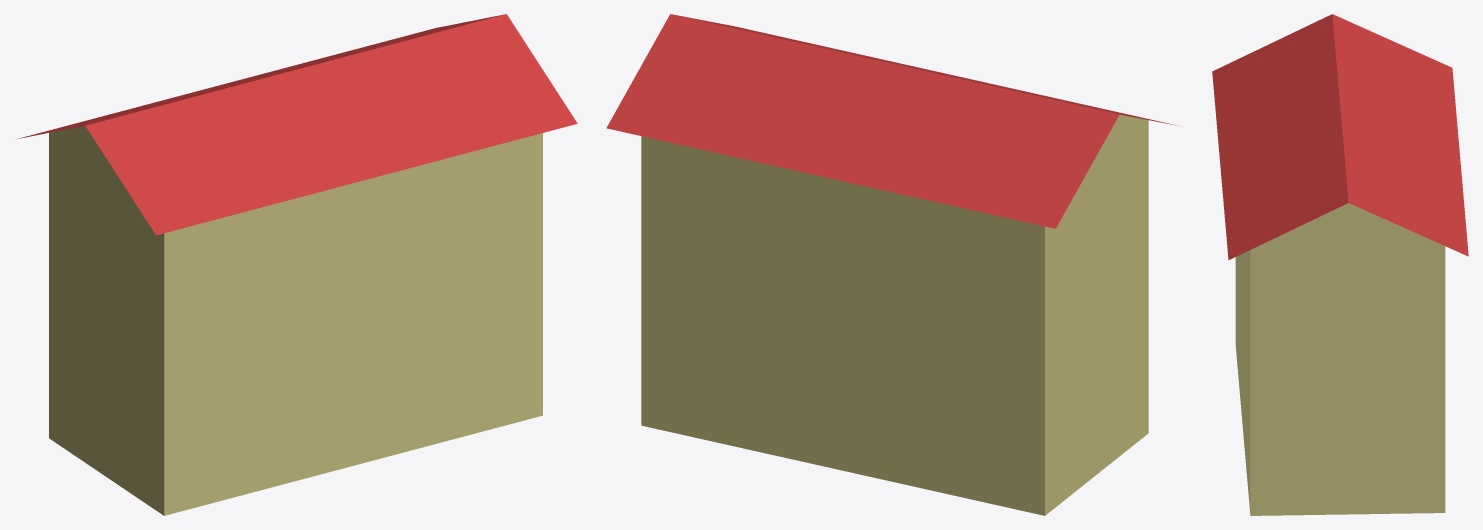
3 views of the same model, side by side, from view 1: azimuth 30°, elevation 25°; view 2: azimuth 150°, elevation 25°; view 3: azimuth 270°, elevation 25° (orthographic). The views are drawn at different scales.
Size of the model in its own units: 15.03 by 8.46 by 11.68.
